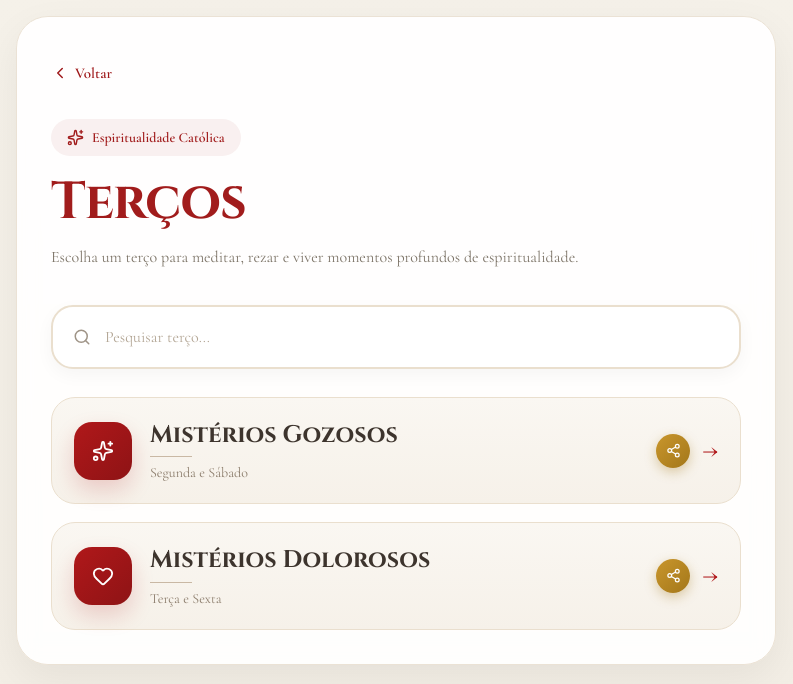
Test case: RosaryHome › filters the list by search
Type "doloroso" into the field with placeholder "Pesquisar terço...".
click(412, 337); type("doloroso")  # box [105,307,719,367]
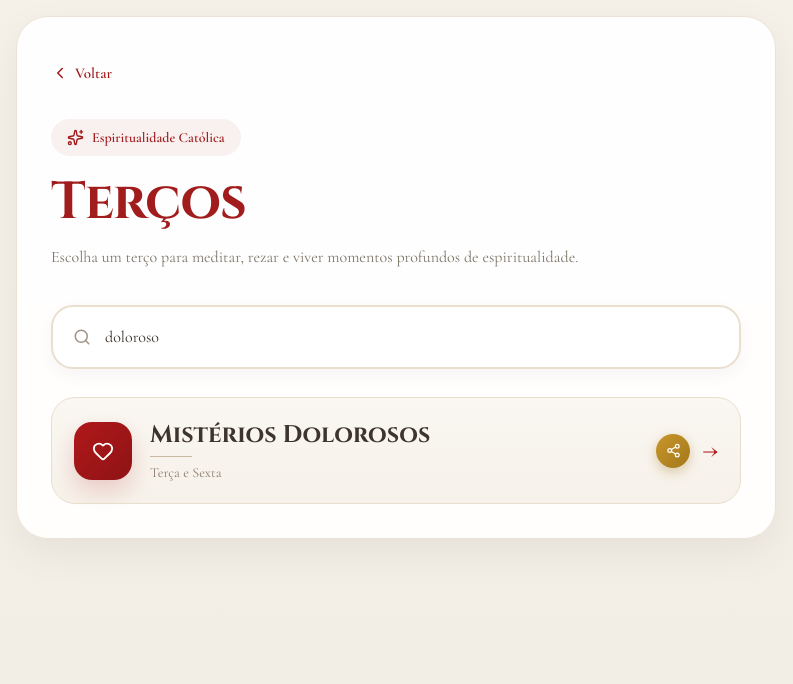
Expected: the text "Mistérios Dolorosos" is shown, [150,420,430,451]
Result: the button "Mistérios Gozosos" is gone
